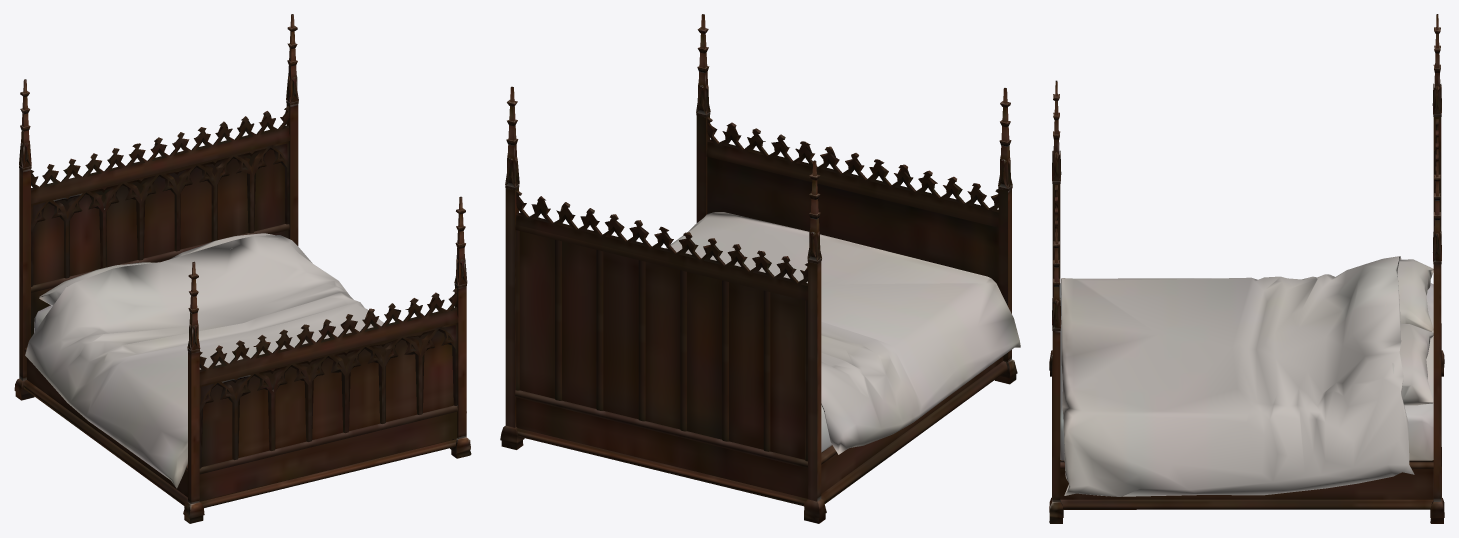
The model's file is ph-gothicbed-01.glb.
3 renders of one model, left to right at view 1: azimuth 30°, elevation 25°; view 2: azimuth 150°, elevation 25°; view 3: azimuth 270°, elevation 25°, orthographic. The views are drawn at different scales.
Visible parts, largest first — view 1: GothicBed_01; view 2: GothicBed_01; view 3: GothicBed_01.
Boxes of the visible parts, box(x1,y1,x2,y2) form: GothicBed_01: box(14, 14, 471, 523); GothicBed_01: box(500, 14, 1020, 523); GothicBed_01: box(1049, 14, 1444, 523).
Size of the model in its own units: 0.9982 by 1 by 0.9999.
1 material, 1 textured.
